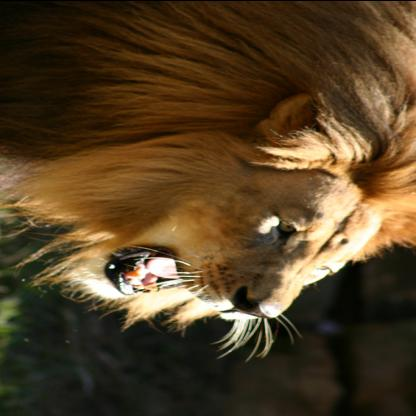lion: (40, 78, 415, 354)
